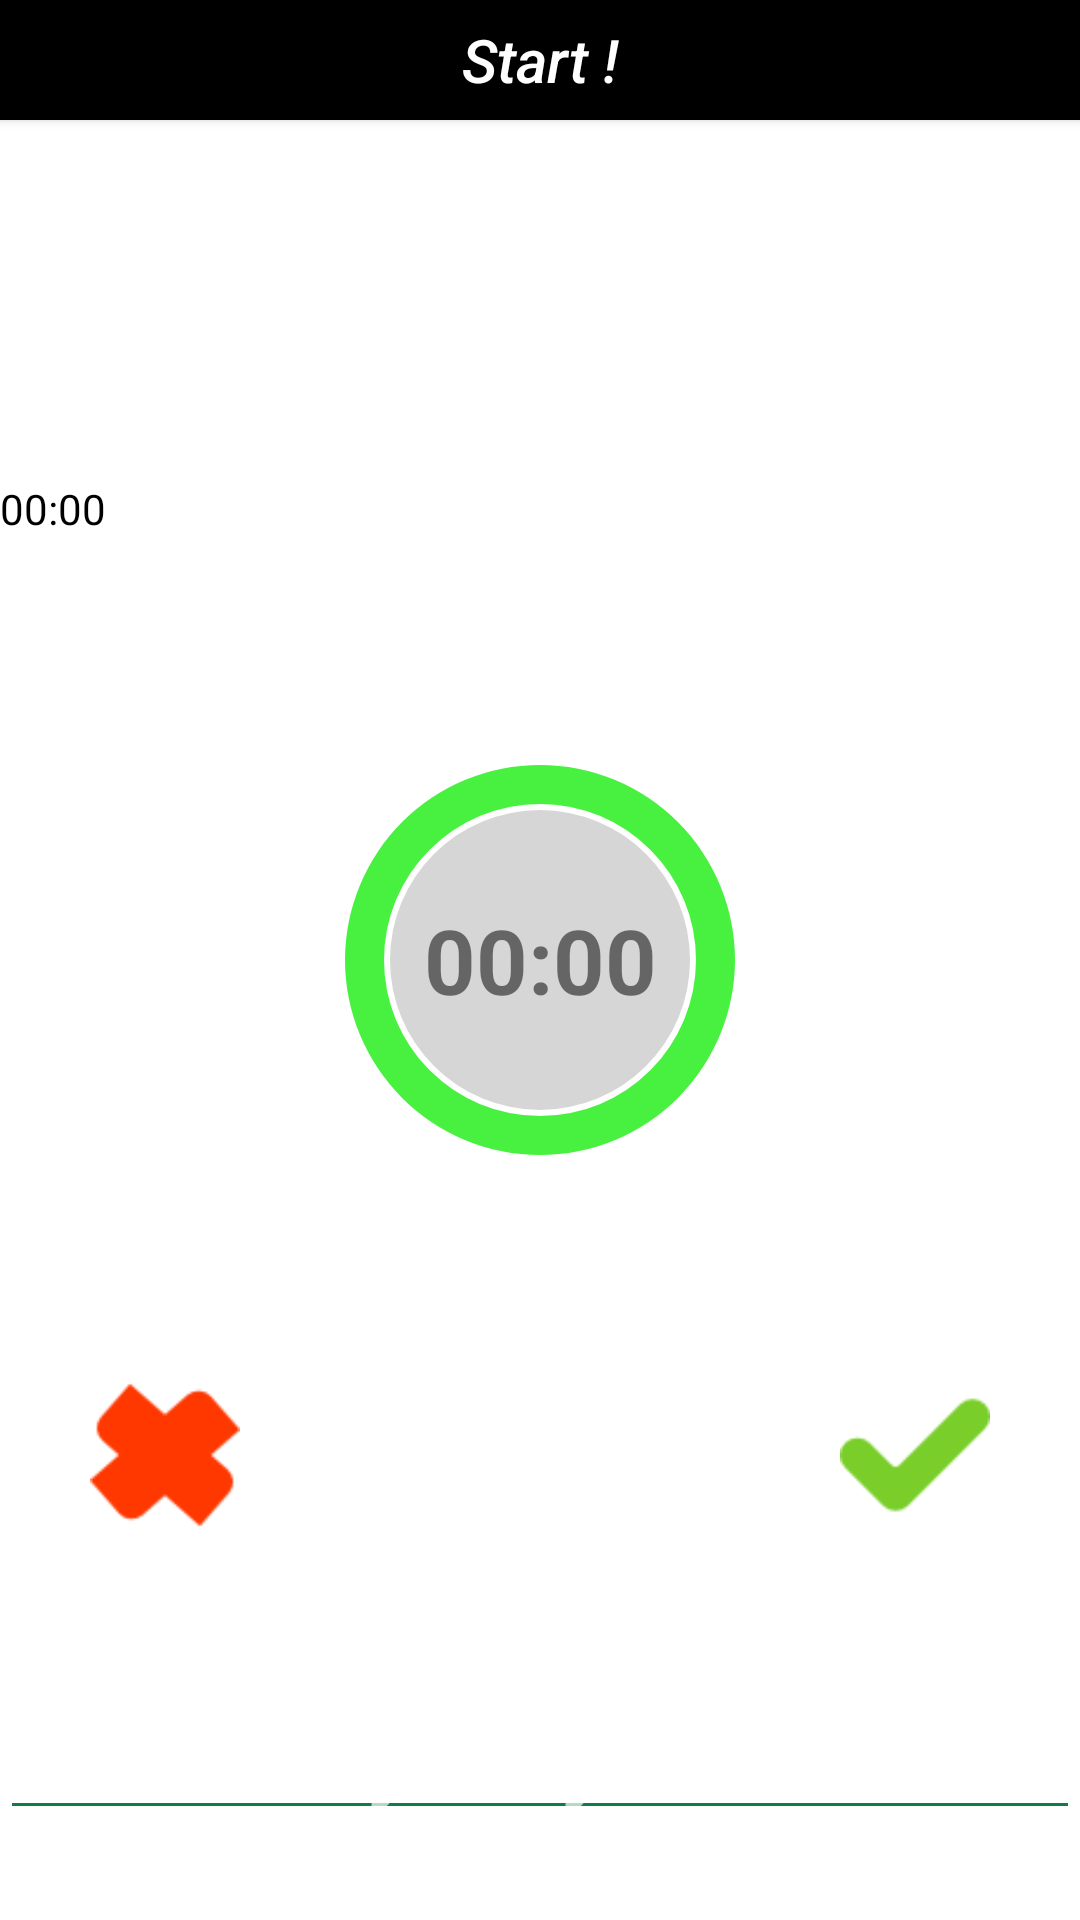

Screen size 1080px x 1920px. Icon name, then its box in pixels as (x1, y1, x2, y2):
check mark: (840, 1398, 990, 1512)
cross: (90, 1384, 240, 1526)
